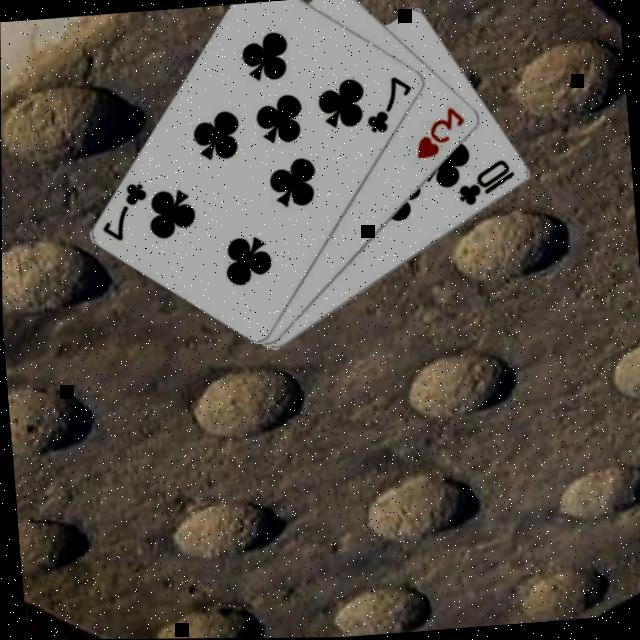10C: (452, 158, 518, 212)
3H: (410, 105, 470, 165)
7C: (95, 180, 152, 247), (360, 74, 416, 139)
